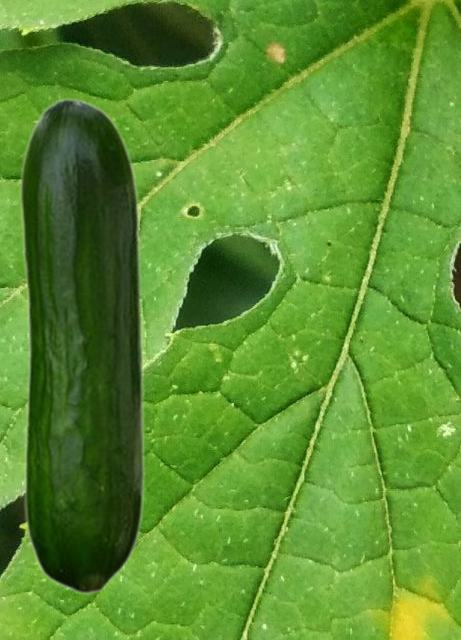cucumber: (19, 97, 145, 594)
